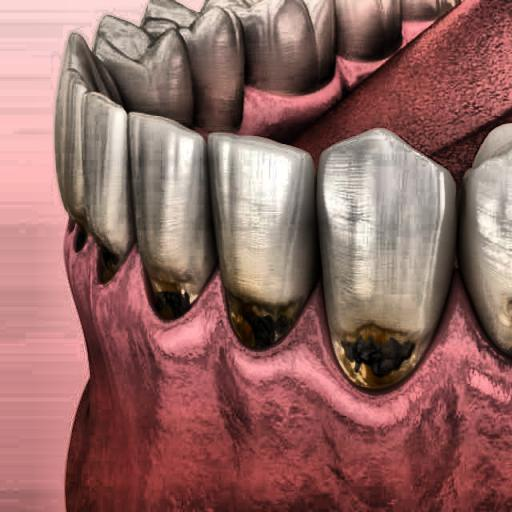Caries: (130, 253, 434, 400), (58, 196, 148, 281)
